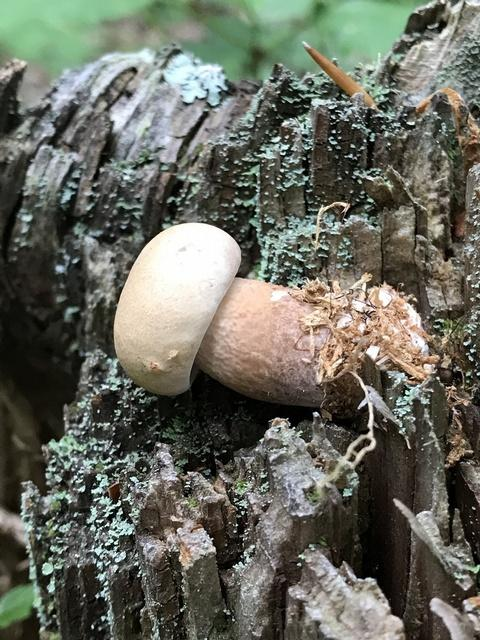poisonous_mushroom: (111, 220, 399, 409)
